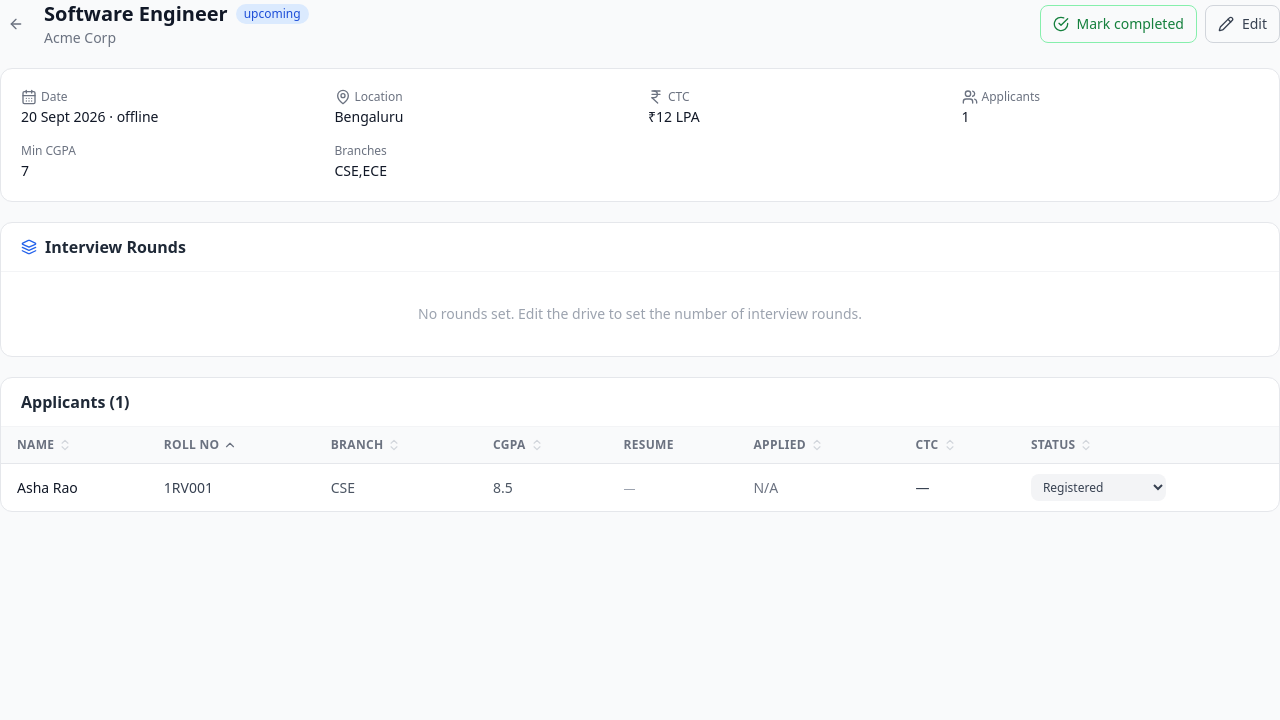
Test: moving a student through the drive › asks for the package before recording a selection
Expected: the text "Asha Rao" is shown, [1,464,148,511]
Select "selected" in the dropdown at (1098,488), box [1031,474,1166,501]
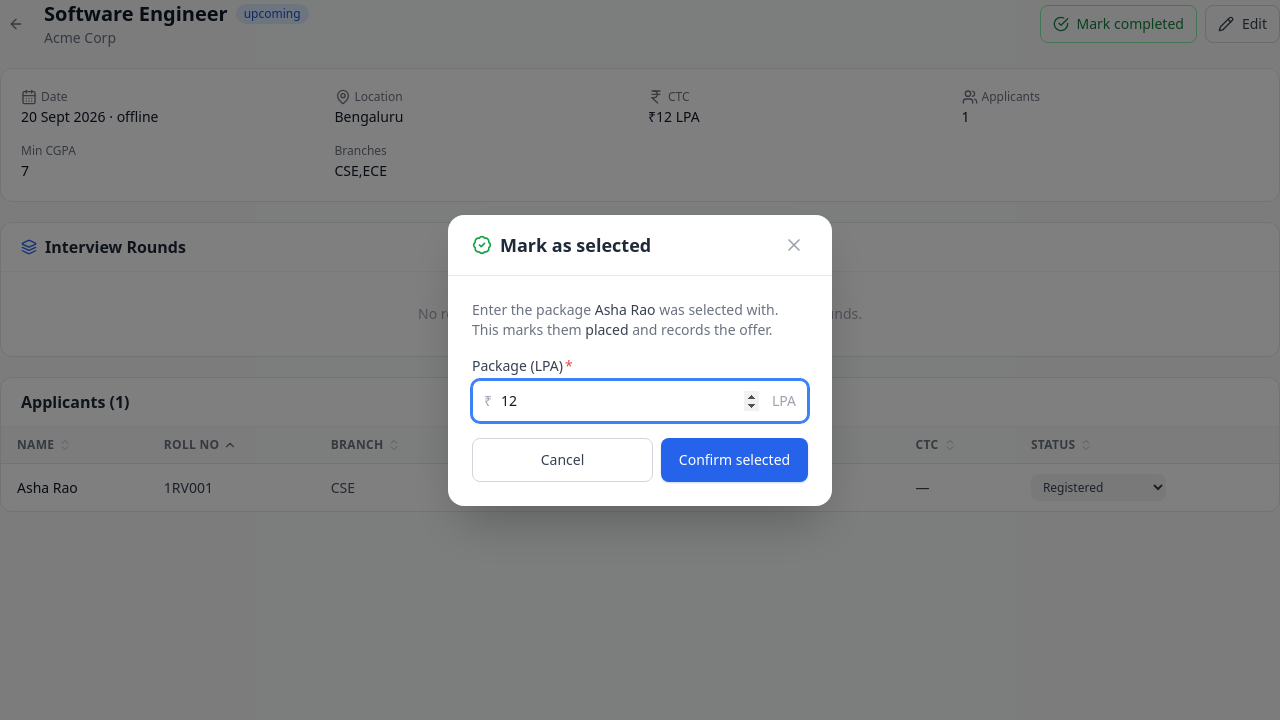
Result: the dialog is shown at [448,214,832,506]
